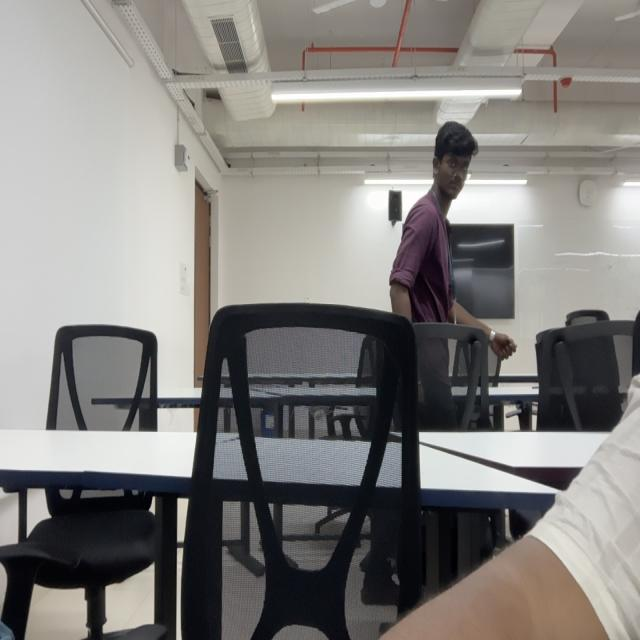ravindra: (433, 120, 478, 201)
